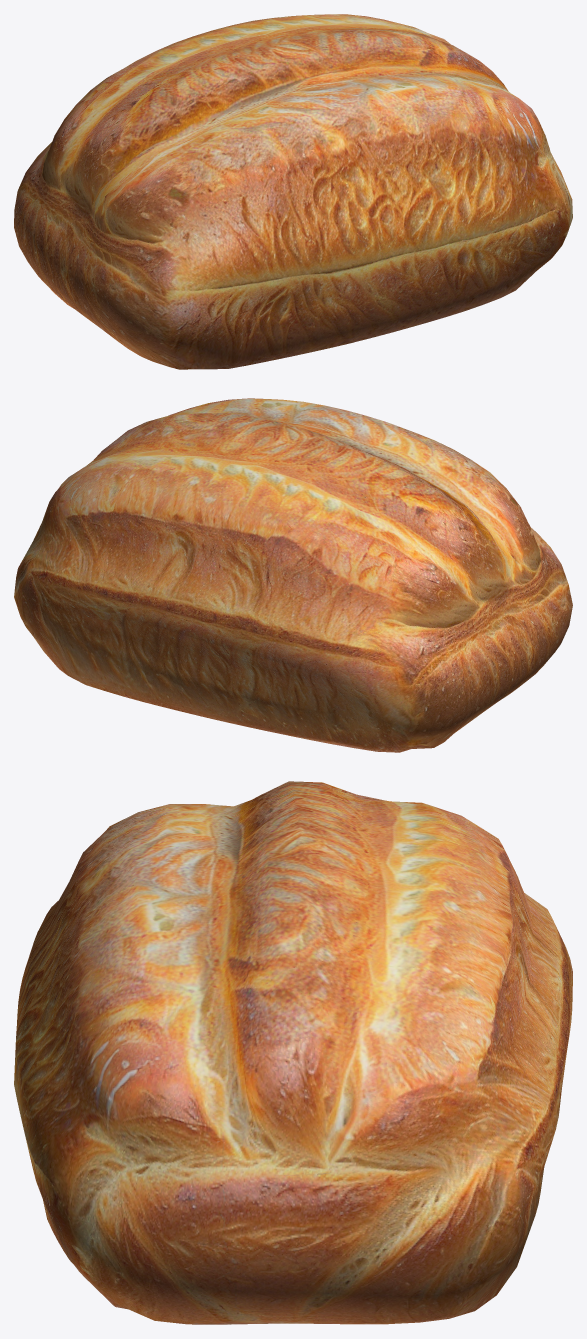
Rendered from Bread_2.FBX.
3 views of the same model, one above another, from view 1: azimuth 30°, elevation 25°; view 2: azimuth 150°, elevation 25°; view 3: azimuth 270°, elevation 25° (orthographic). The views are drawn at different scales.
Visible parts, largest first — view 1: BreadRoll; view 2: BreadRoll; view 3: BreadRoll.
Boxes of the visible parts, bbox=[...] form: BreadRoll: bbox=[14, 14, 572, 369]; BreadRoll: bbox=[14, 398, 572, 752]; BreadRoll: bbox=[14, 781, 572, 1324].
Bounding box in the file's own units: 4.04 × 2.02 × 2.84.
